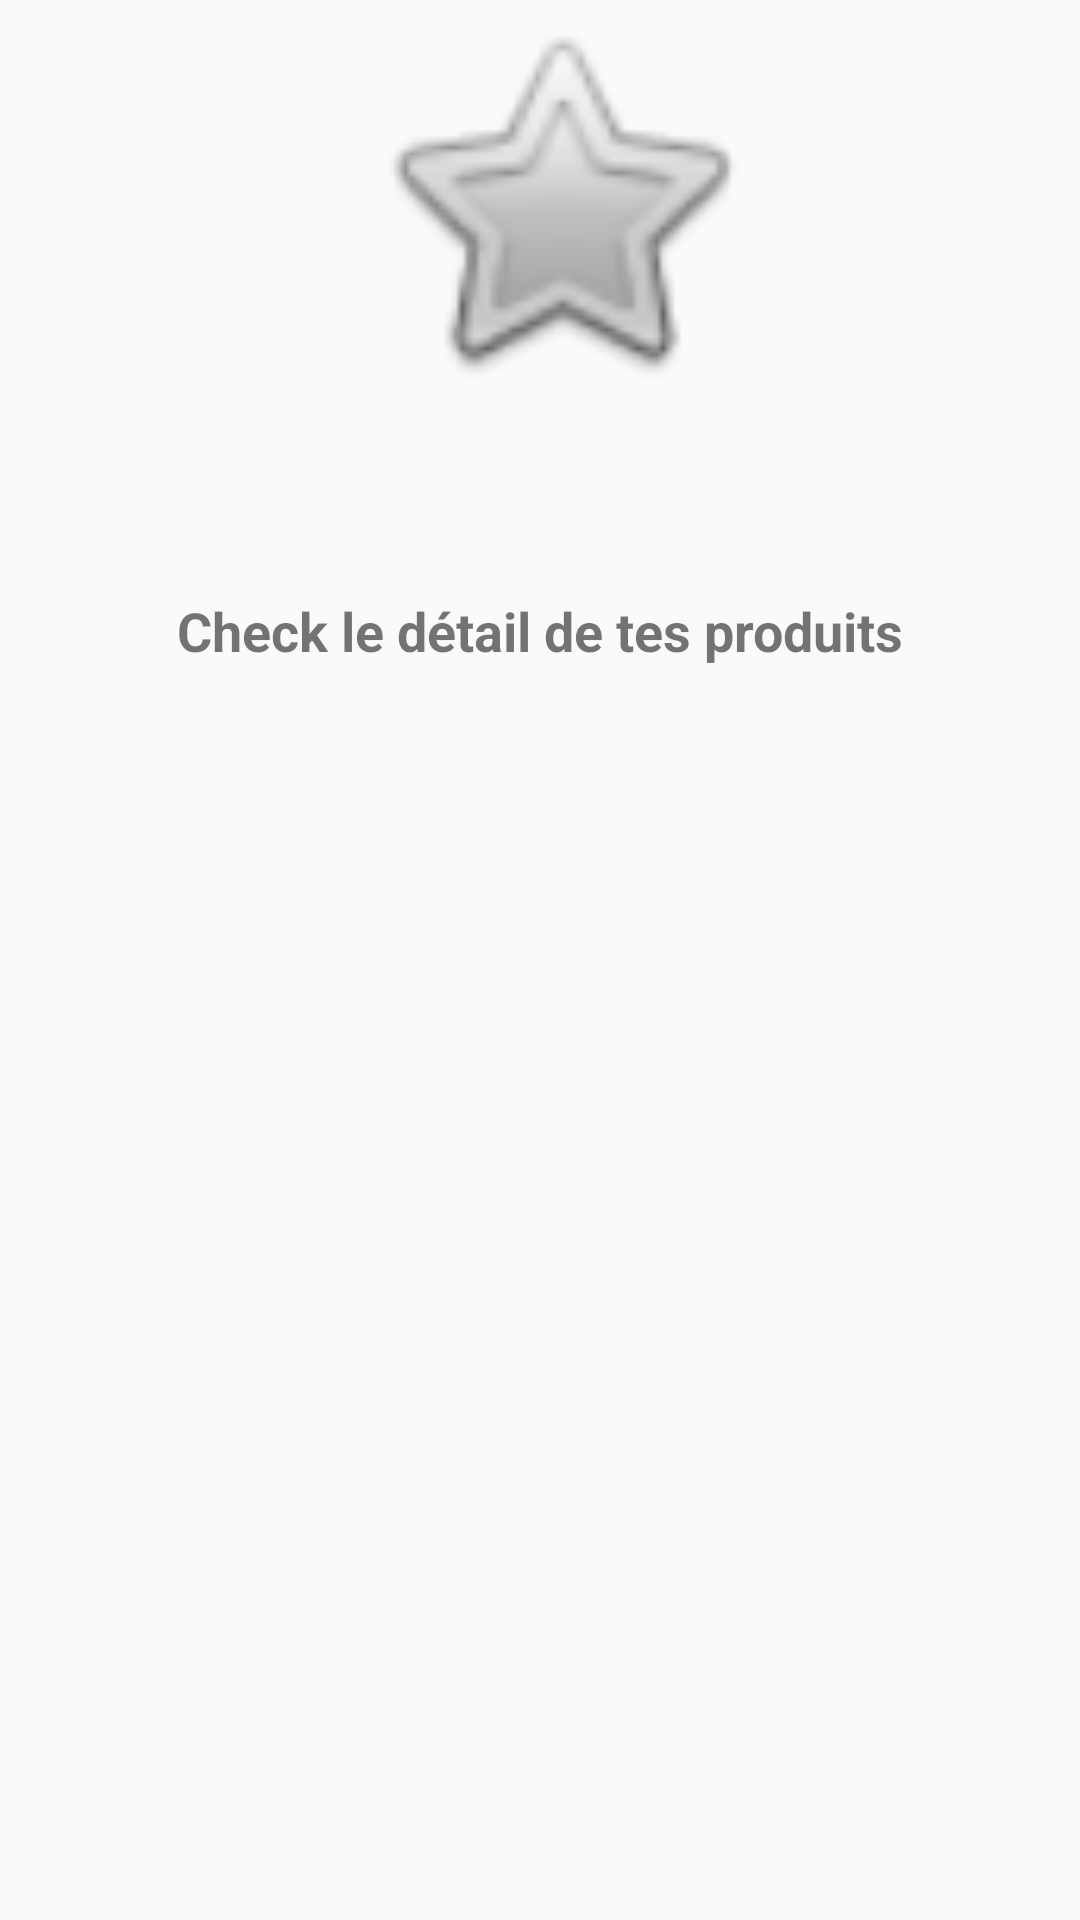

Where icons sit on this 1080*1920 app screen, as (x1, y1, x2, y2):
star: (395, 40, 731, 368)
